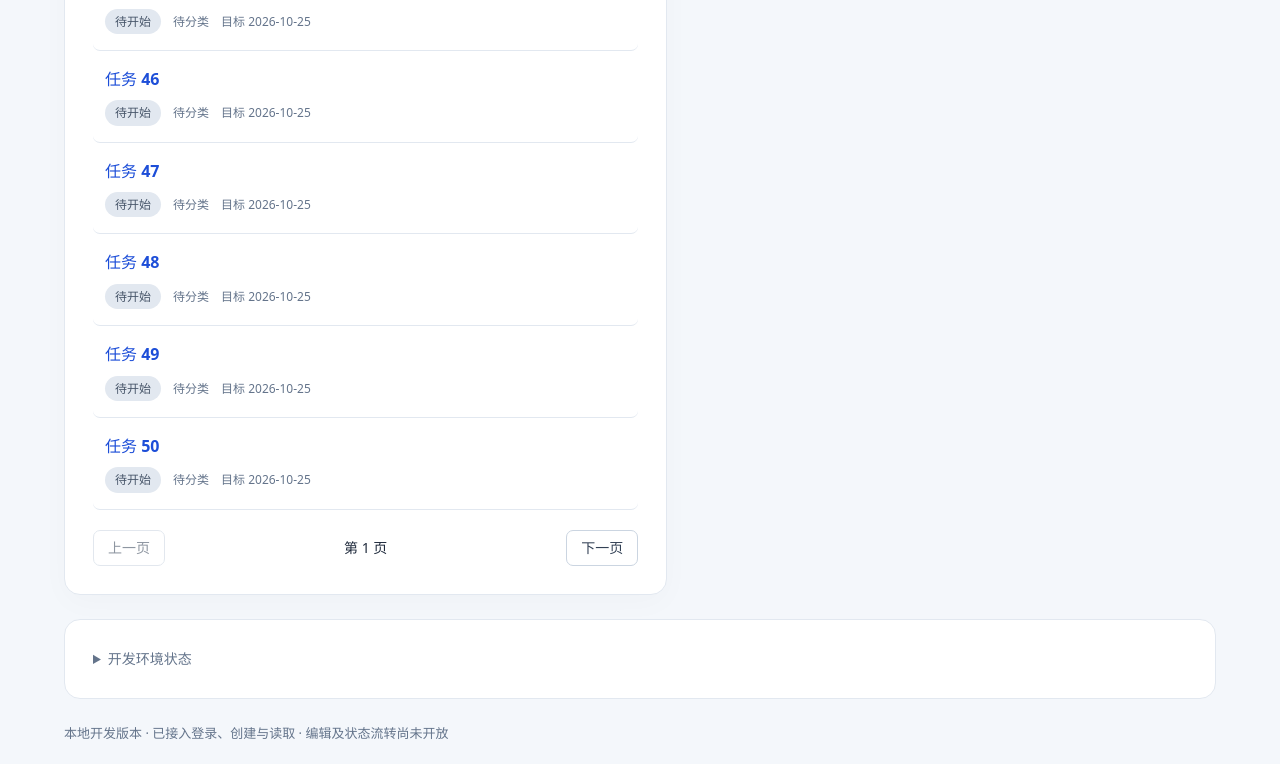
paginates the list without inventing a total count
This screenshot has width=1280, height=764.
(page scrolled)
Expected: the button "任务 50" is shown, 105,434 -> 160,459
What coordinates should you click on to do the following:
click the button "下一页"
I would click on:
 (602, 548)
Its box is 566,530 -> 638,566.
(page scrolled)
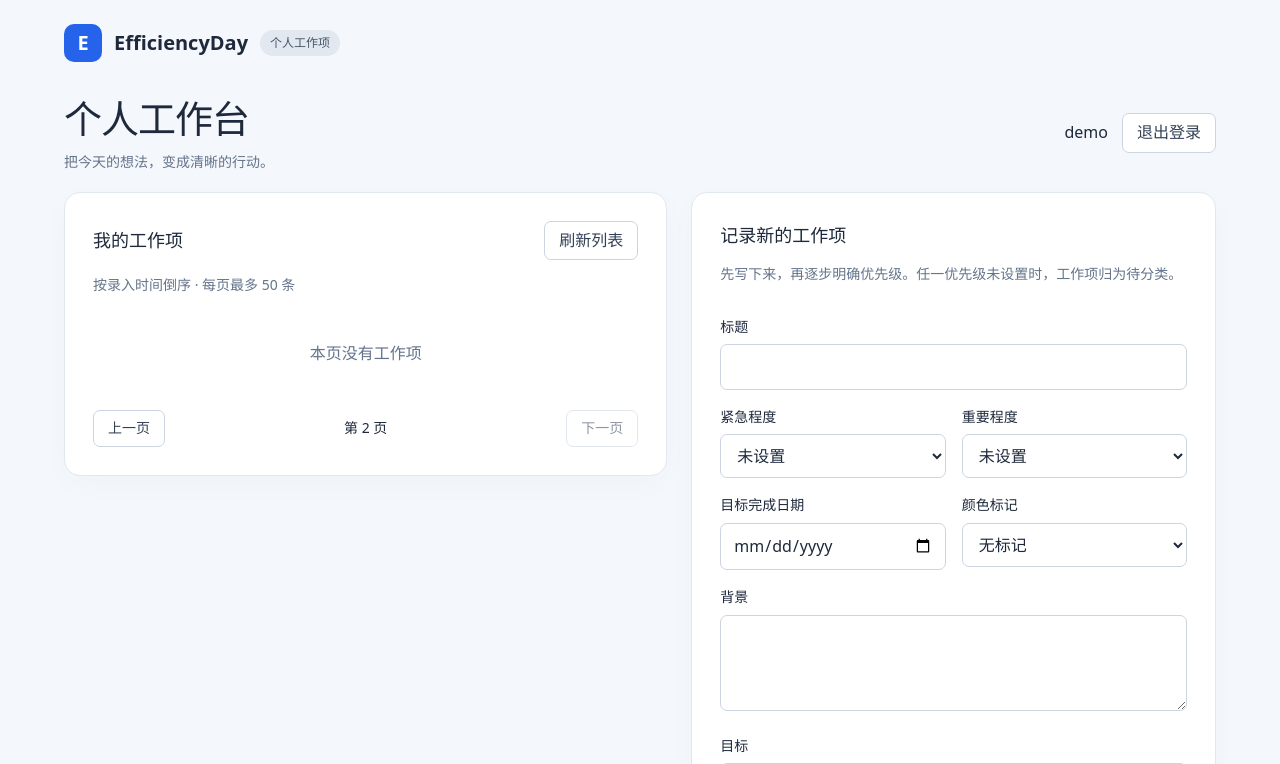
Expected: the text "本页没有工作项" is shown, 310,342 -> 422,364
What coordinates should you click on to do the following:
click the button "上一页"
I would click on:
 (129, 428)
Its box is 93,410 -> 165,447.
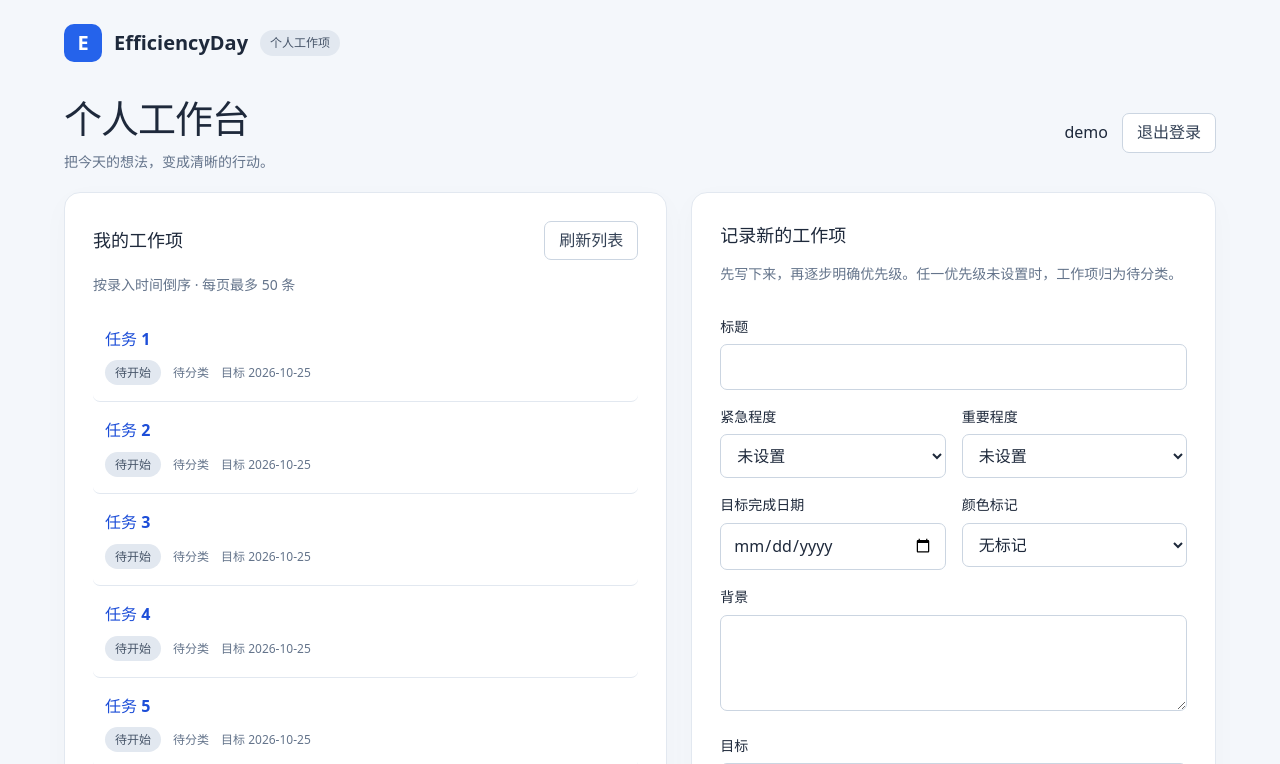
Expected: the button "任务 1" is shown, 105,327 -> 150,352
